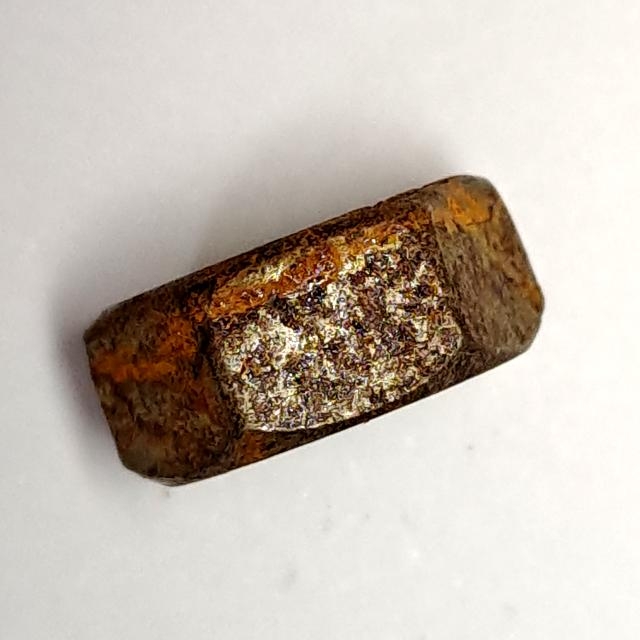Side_Rust: (75, 158, 557, 505)
